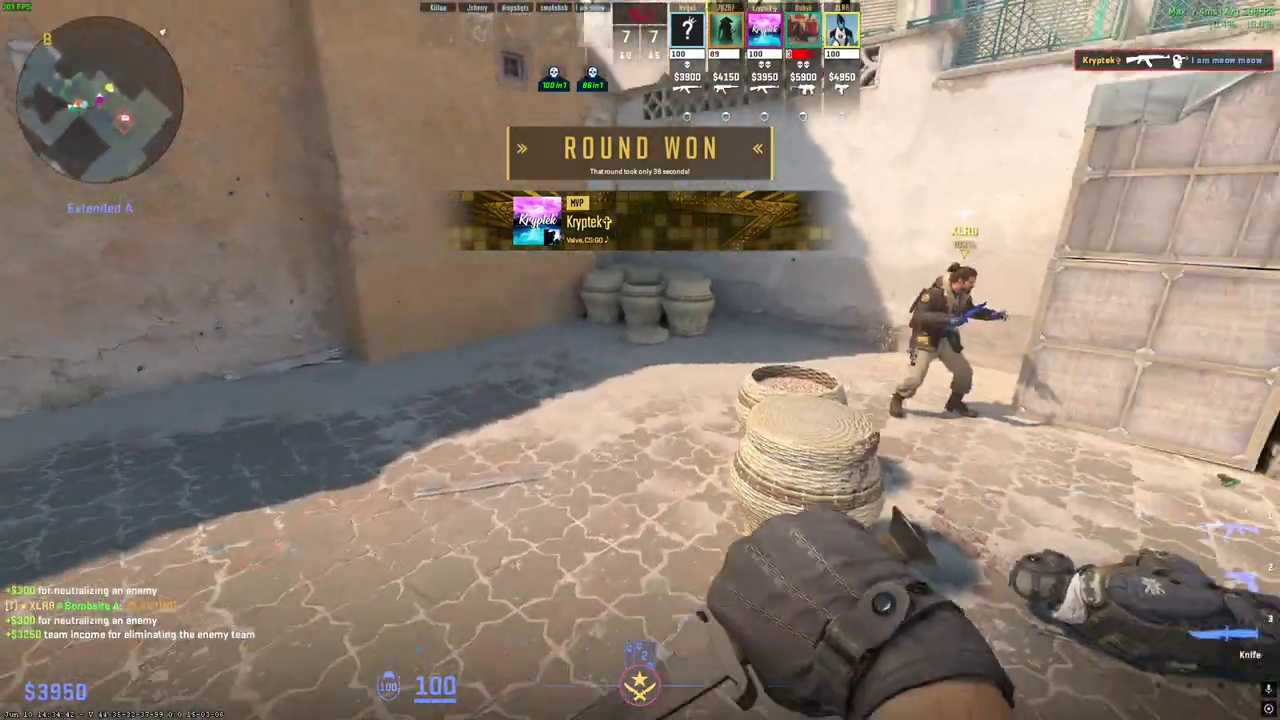Terrorist: (896, 260, 988, 421)
